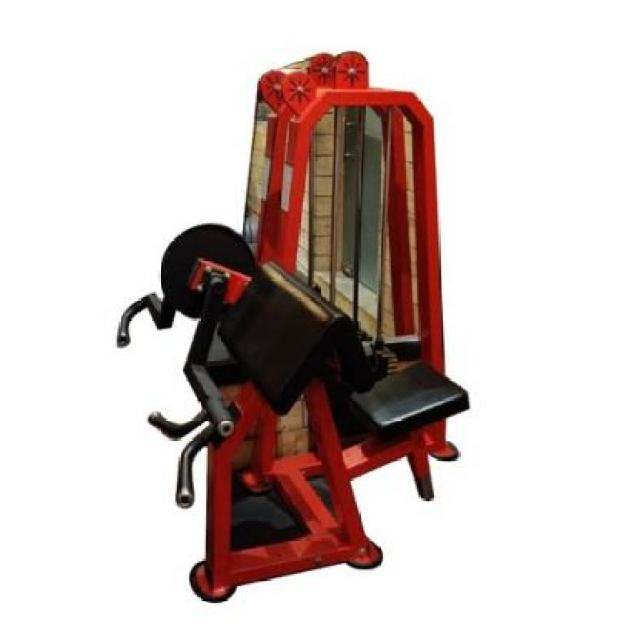arm curl machine: (118, 51, 470, 604)
